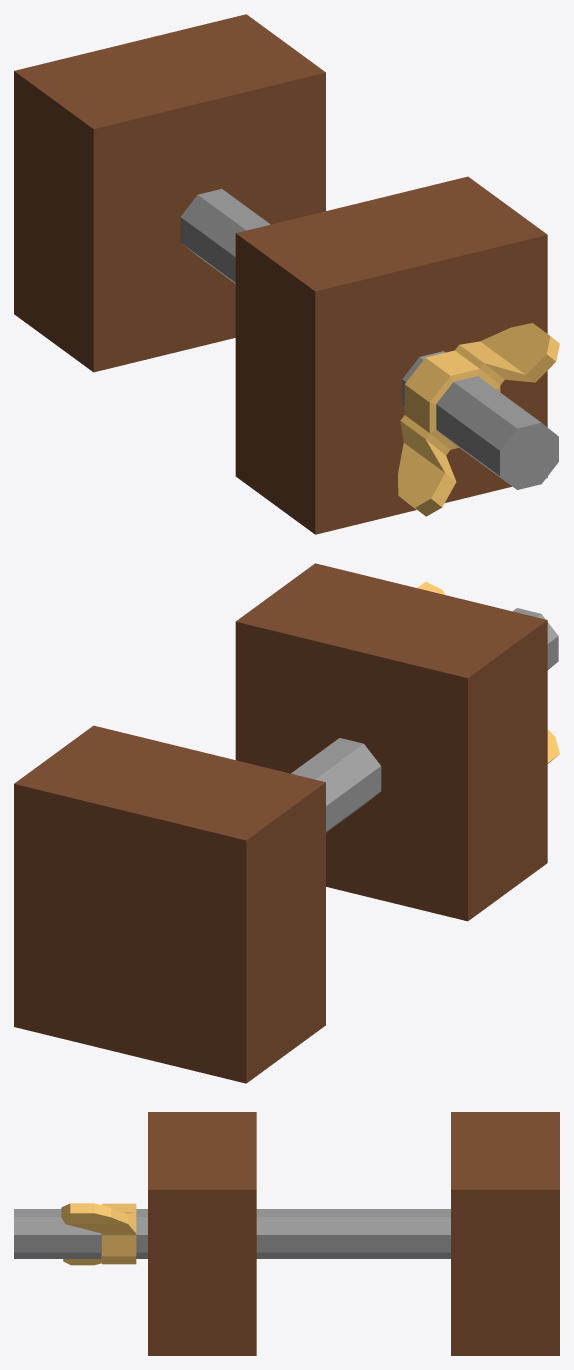
The model's file is clamp02.obj.
3 renders of one model, top to bottom at view 1: azimuth 30°, elevation 25°; view 2: azimuth 150°, elevation 25°; view 3: azimuth 270°, elevation 25°, orthographic. The views are drawn at different scales.
Visible parts, largest first — view 1: Cylinder_Cylinder.004; view 2: Cylinder_Cylinder.004; view 3: Cylinder_Cylinder.004.
Part boxes in pixels (x1,y1,x2,y2): Cylinder_Cylinder.004: (14, 14, 559, 534); Cylinder_Cylinder.004: (14, 563, 559, 1083); Cylinder_Cylinder.004: (14, 1112, 559, 1355).
Size of the model in its own units: 0.0639 by 0.0639 by 0.1901.
Materials: 1 (1 with a texture image).
